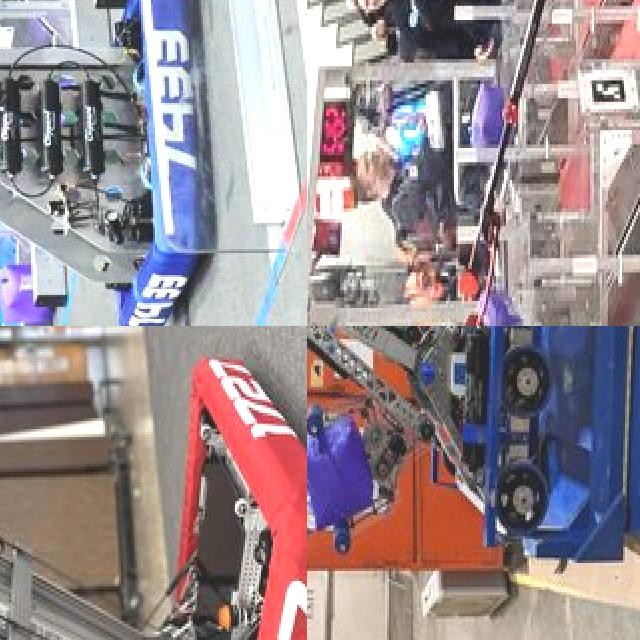FRC-Robots: (0, 332, 307, 640), (307, 326, 640, 567), (431, 0, 640, 326), (0, 0, 211, 296)
